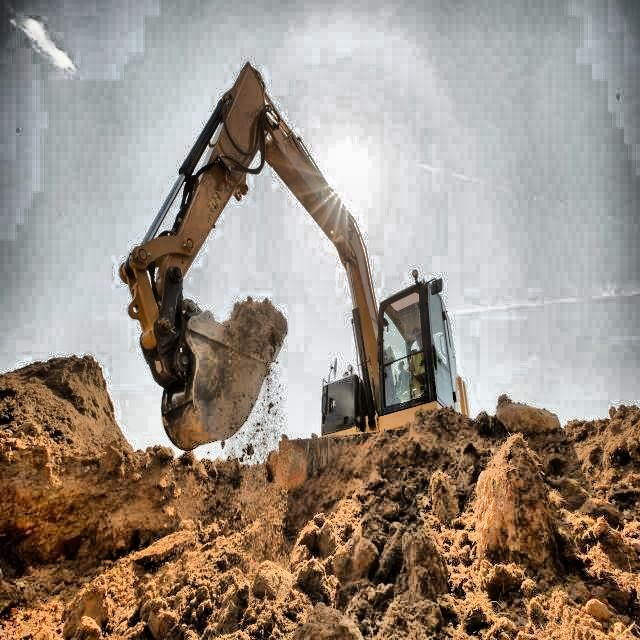excavator: (116, 59, 474, 487)
